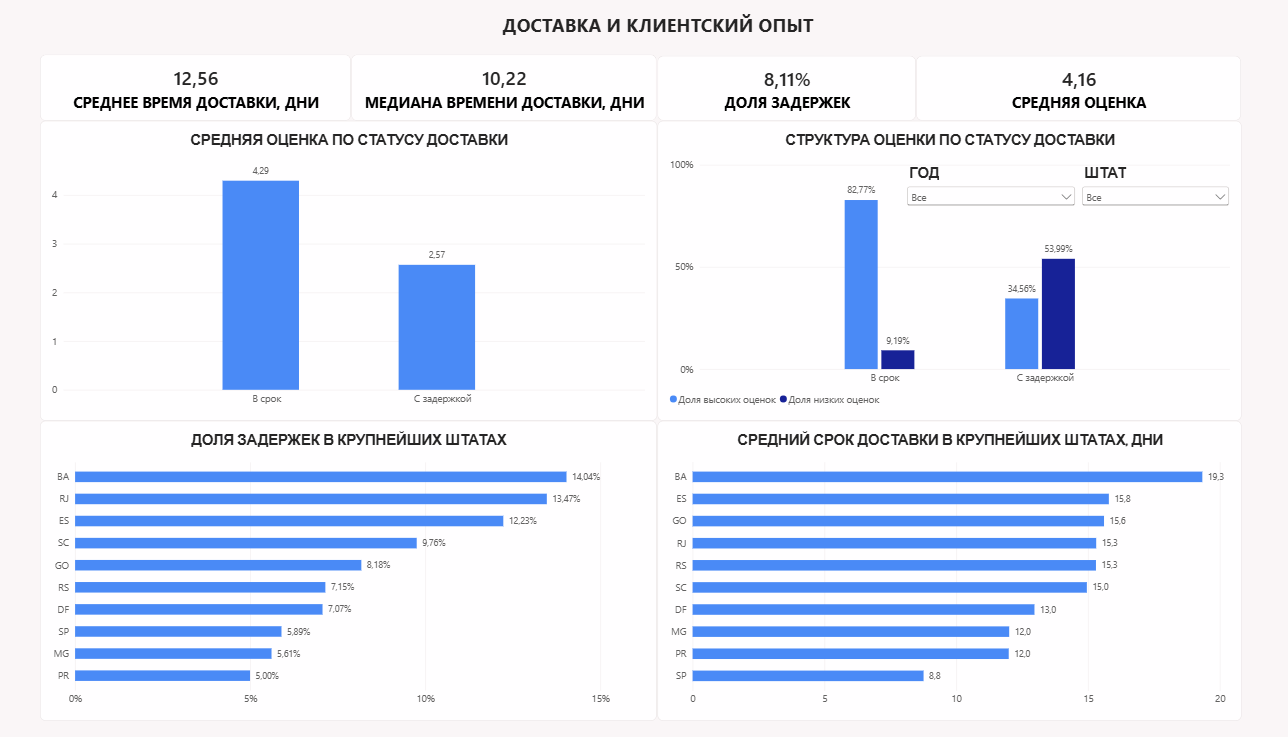

The page's visual inventory and layout, read from the dashboard file:
{"tool":"powerbi","page":{"name":"Доставка и клиентский опыт","canvas":[1920,1080],"ordinal":1},"visuals":[{"type":"textbox","box":[684.1,29,552,62],"z":0},{"type":"cardVisual","fields":{"Data":["Calendar.Среднее время доставки"]},"box":[65.1,90.5,450.8,96.7],"z":1000},{"type":"cardVisual","fields":{"Data":["Calendar.Медиана времени доставки"]},"box":[515.8,90.5,442.5,96.7],"z":2000},{"type":"cardVisual","fields":{"Data":["Orders.Late Delivery Rate"]},"box":[959.1,92.3,374.6,94.7],"z":3000},{"type":"cardVisual","fields":{"Data":["Orders.Average Review Score"]},"box":[1333.7,92.3,470.5,94.1],"z":4000},{"type":"columnChart","title":"СРЕДНЯЯ ОЦЕНКА ПО СТАТУСУ ДОСТАВКИ","fields":{"Category":["Orders.Статус доставки"],"Y":["Orders.Average Review Score"]},"box":[65.1,186.4,893.3,434.3],"z":5000},{"type":"clusteredColumnChart","title":"СТРУКТУРА ОЦЕНКИ ПО СТАТУСУ ДОСТАВКИ","fields":{"Category":["Orders.Статус доставки"],"Y":["Orders.Доля высоких оценок","Orders.Доля низких оценок"]},"box":[959.1,186.4,846,434.3],"z":6000},{"type":"barChart","title":"ДОЛЯ ЗАДЕРЖЕК В КРУПНЕЙШИХ ШТАТАХ","fields":{"Category":["Orders.customer_state"],"Y":["Orders.Late Delivery Rate"]},"box":[65.1,620.7,893,434],"z":7000},{"type":"barChart","title":"СРЕДНИЙ СРОК ДОСТАВКИ В КРУПНЕЙШИХ ШТАТАХ, ДНИ","fields":{"Category":["Orders.customer_state"],"Y":["Calendar.Среднее время доставки"]},"box":[959.1,620.7,846,434.3],"z":8000},{"type":"slicer","fields":{"Values":["Calendar.Year"]},"box":[1315.6,249.7,253.2,100.9],"z":8001},{"type":"slicer","fields":{"Values":["Orders.customer_state"]},"box":[1569,249.7,222.3,115.3],"z":8002}]}

Visuals, with their boxes in screenshot pixels (x1, y1, x2, y2), scaled from the page's 1920x1080 canvas onto the 1288x737 screenshot:
textbox: rect(459, 20, 829, 62)
cardVisual - Calendar.Среднее время доставки: rect(44, 62, 346, 128)
cardVisual - Calendar.Медиана времени доставки: rect(346, 62, 643, 128)
cardVisual - Orders.Late Delivery Rate: rect(643, 63, 895, 128)
cardVisual - Orders.Average Review Score: rect(895, 63, 1210, 127)
"СРЕДНЯЯ ОЦЕНКА ПО СТАТУСУ ДОСТАВКИ" columnChart: rect(44, 127, 643, 424)
"СТРУКТУРА ОЦЕНКИ ПО СТАТУСУ ДОСТАВКИ" clusteredColumnChart: rect(643, 127, 1211, 424)
"ДОЛЯ ЗАДЕРЖЕК В КРУПНЕЙШИХ ШТАТАХ" barChart: rect(44, 424, 643, 720)
"СРЕДНИЙ СРОК ДОСТАВКИ В КРУПНЕЙШИХ ШТАТАХ, ДНИ" barChart: rect(643, 424, 1211, 720)
slicer - Calendar.Year: rect(883, 170, 1052, 239)
slicer - Orders.customer_state: rect(1053, 170, 1202, 249)
